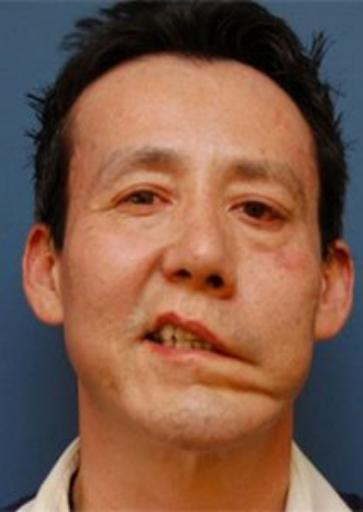left_eye: (230, 201, 287, 228)
left_lip_corner: (234, 345, 260, 374)
right_eye: (115, 193, 175, 218)
right_lip_corner: (135, 329, 155, 351)
